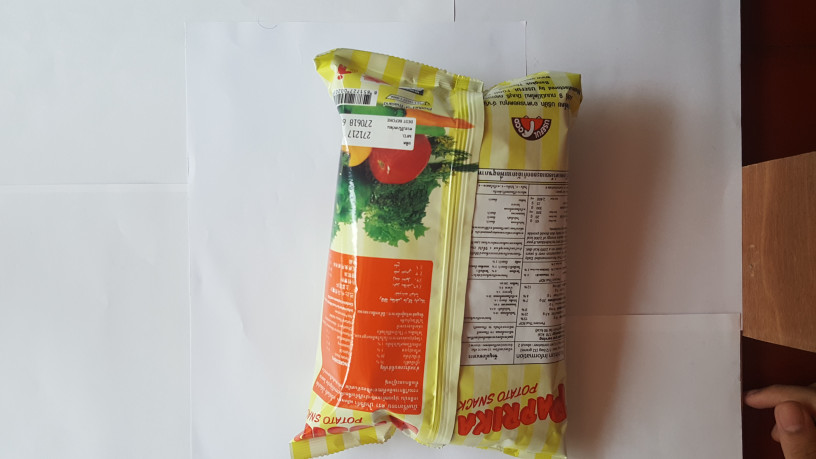paprika: (279, 37, 593, 459)
